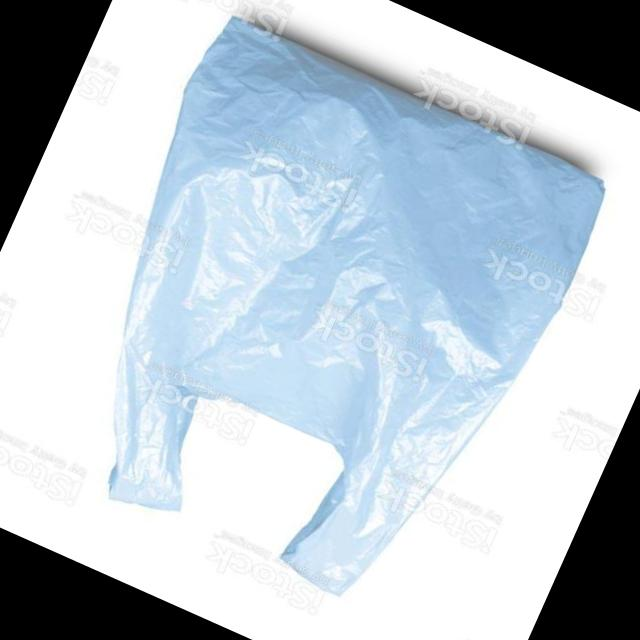KantongPlastik: (17, 5, 619, 640)
